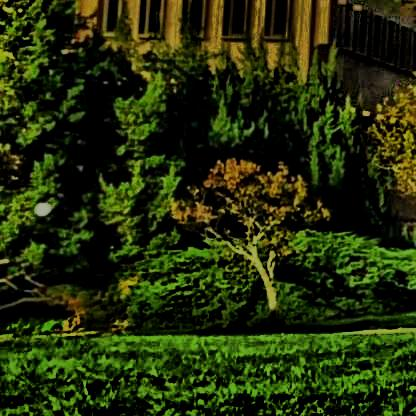golfball: (32, 199, 49, 214)
